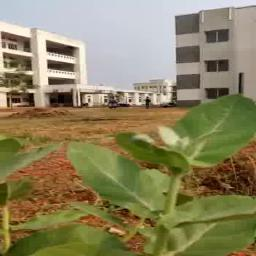Calotropis: (11, 131, 136, 256), (151, 120, 255, 252), (180, 98, 255, 124)
